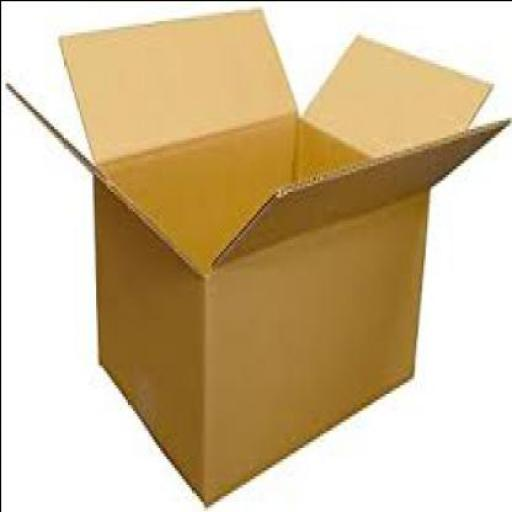cardboard: (7, 2, 511, 511)
